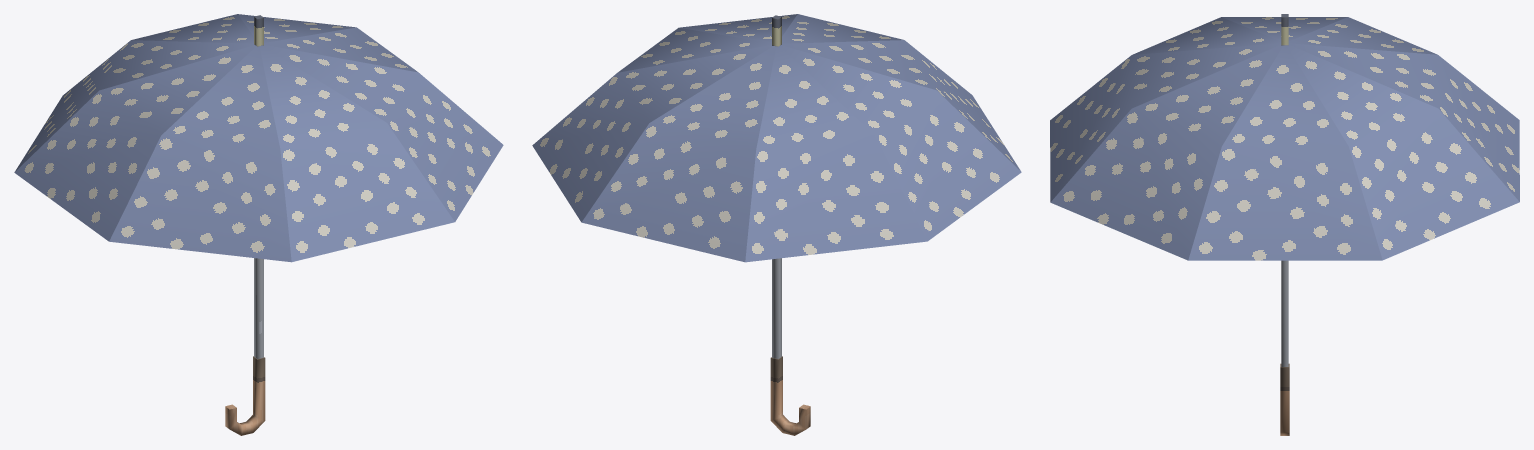
The model's file is 03f5_Polka_Dot_Umbrella.glb.
The picture shows the model from 3 angles, left to right: view 1: azimuth 30°, elevation 25°; view 2: azimuth 150°, elevation 25°; view 3: azimuth 270°, elevation 25°; orthographic projection. The views are drawn at different scales.
Parts seen in each view (by area): view 1: part_0; view 2: part_0; view 3: part_0.
Boxes of the visible parts, left/top/right/bottom form: part_0: left=14, top=14, right=503, bottom=435; part_0: left=532, top=14, right=1021, bottom=435; part_0: left=1050, top=14, right=1519, bottom=435.
Size of the model in its own units: 1.24 by 1.24 by 1.24.
1 material, 1 textured.
